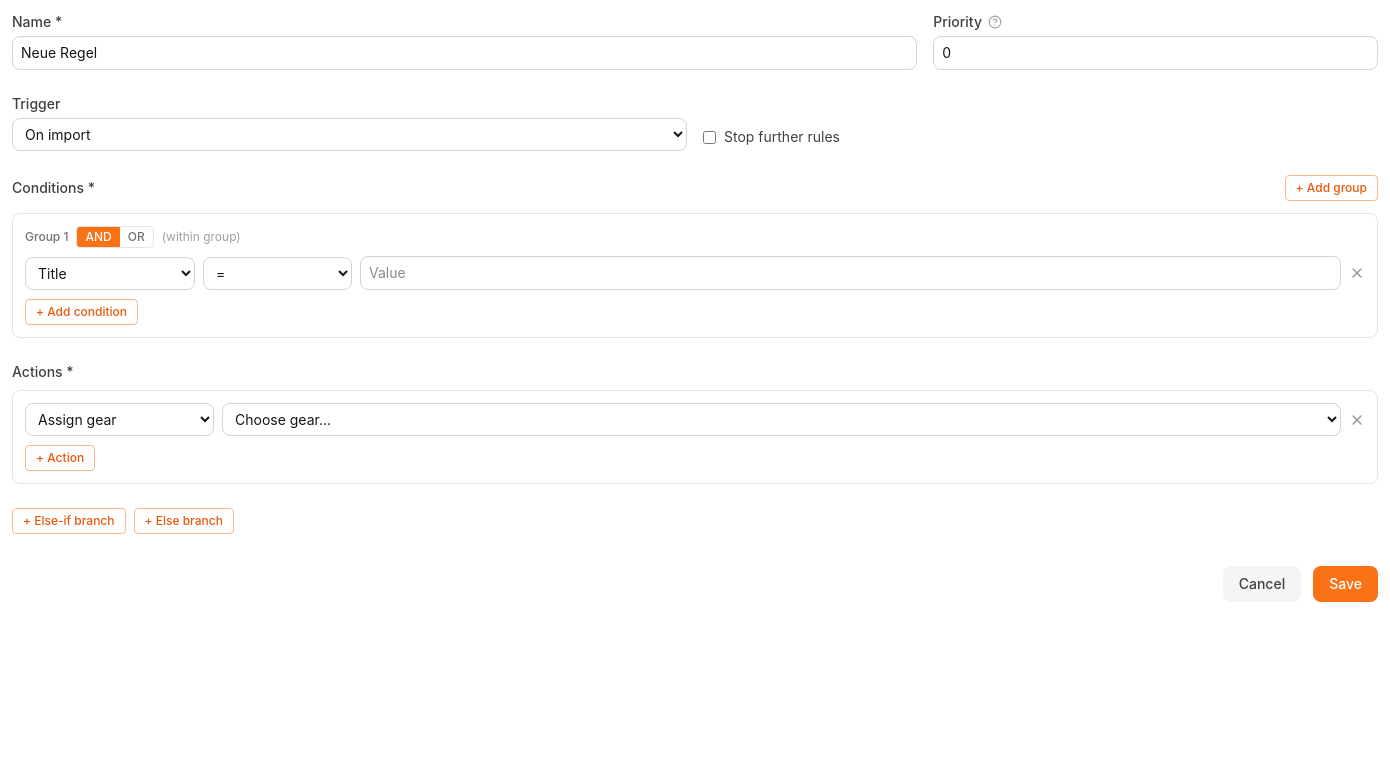
Test: RuleEditor sport tuple controls › localizes action controls and validation messages
The image size is (1390, 780).
Click the button "Save": (1346, 584) [1313, 566, 1378, 602]
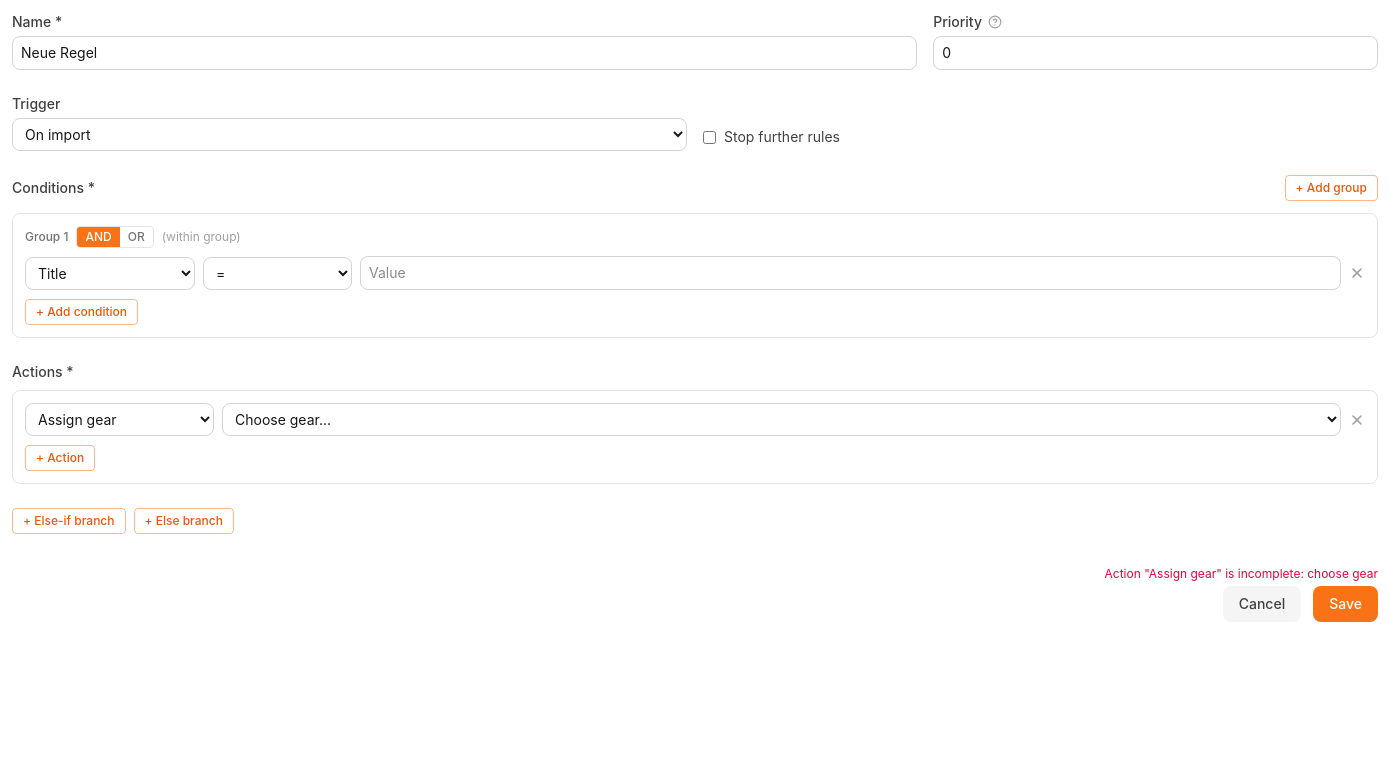
Expected: the text "Action \"Assign gear\" is incomplete: choose gear" is shown, [1104, 566, 1378, 582]
